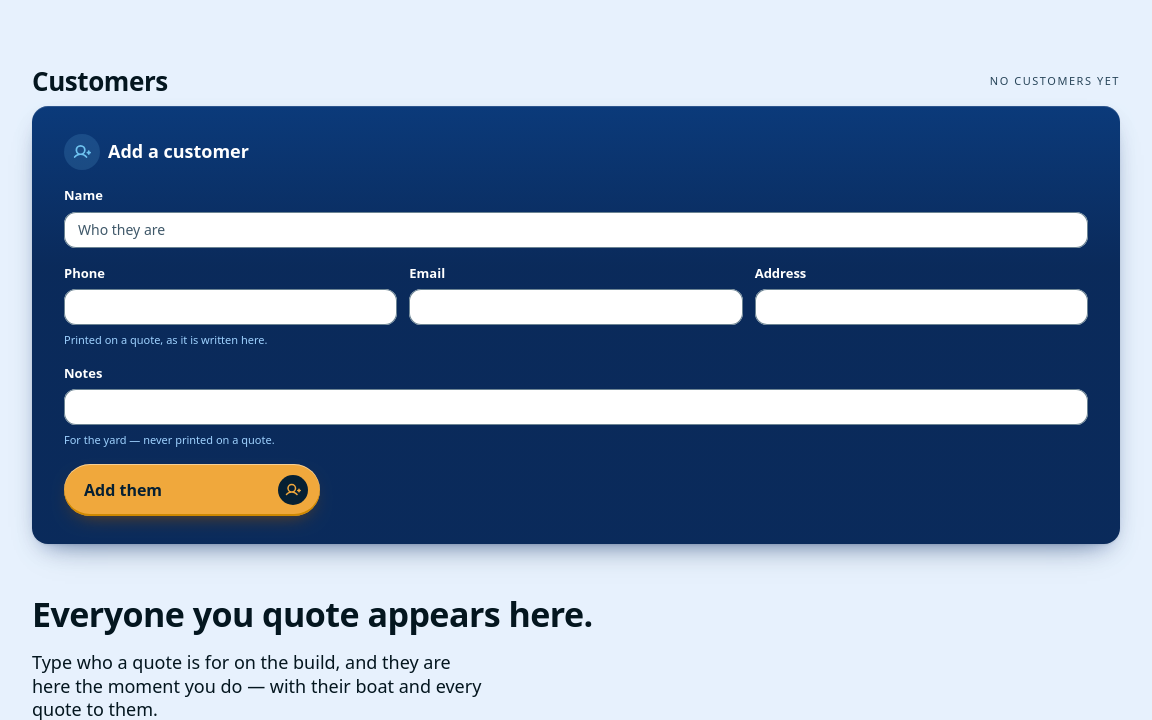
Scenario: adding somebody by hand makes the book, in one step, with one undo › writes the book and the person together and says so plainly
Type "Sarah Jones" into the field labelled "Name".
click(576, 230); type("Sarah Jones")  # box [64,212,1088,248]
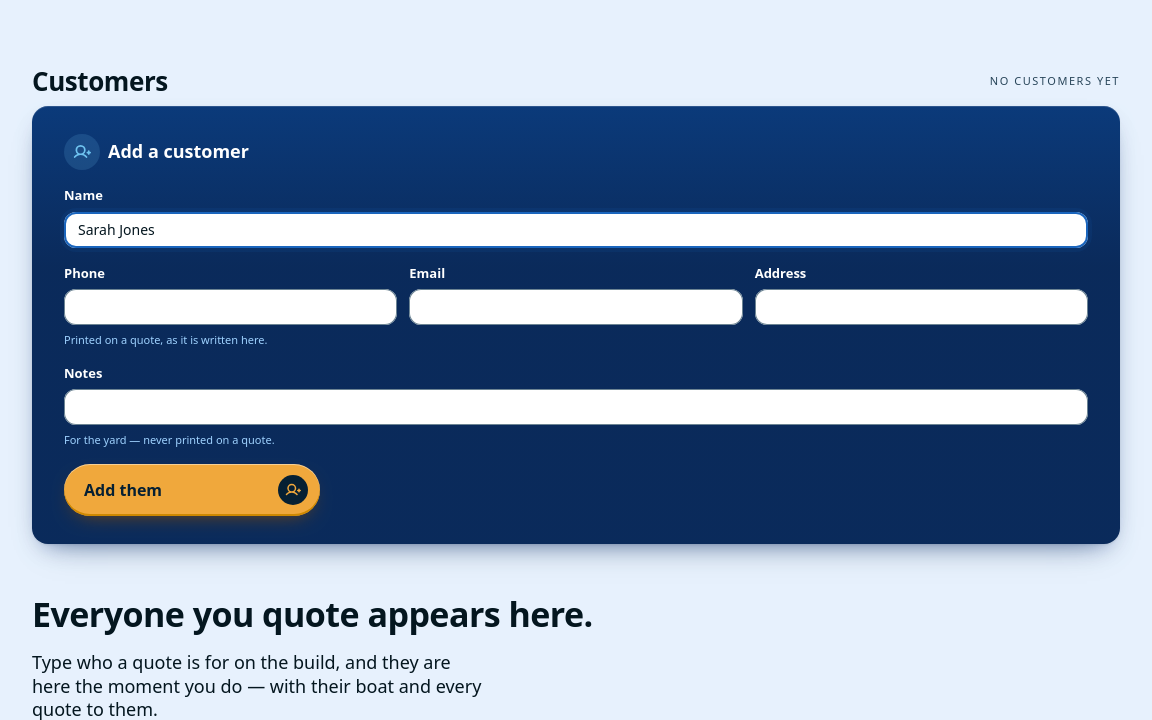
Type "0400 123 456" into the field labelled "Phone".
click(231, 307); type("0400 123 456")  # box [64,289,397,325]
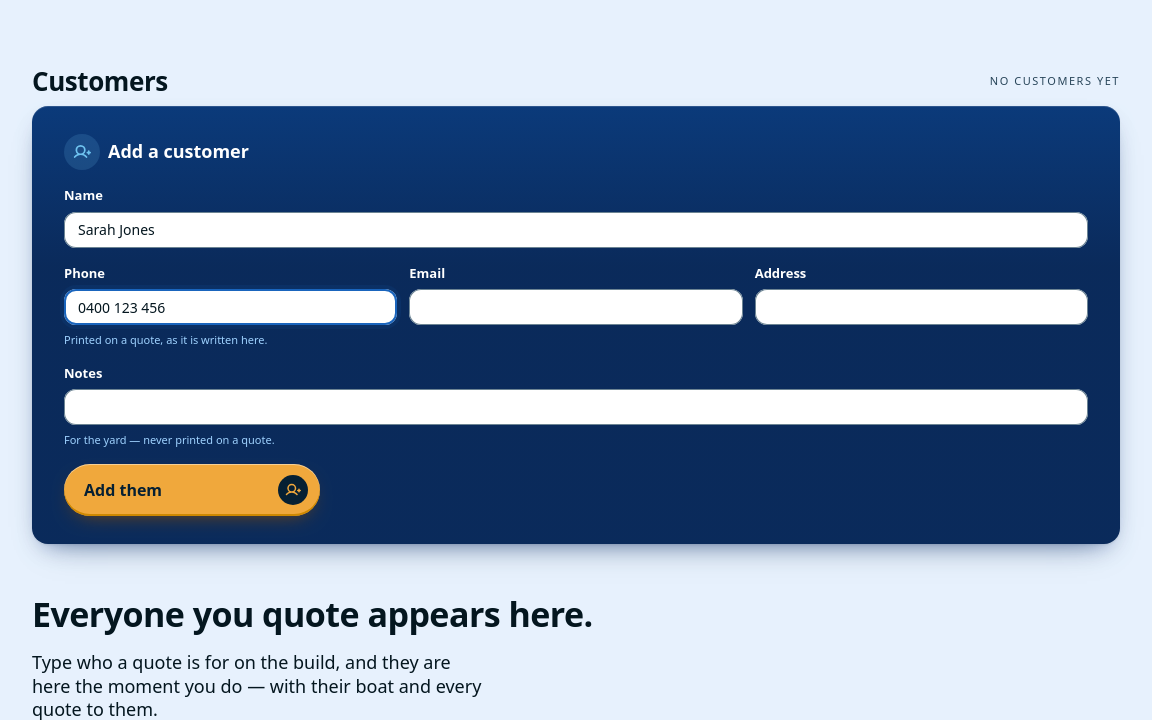
Click the button "Add them".
click(192, 490)  # box [64,464,320,516]
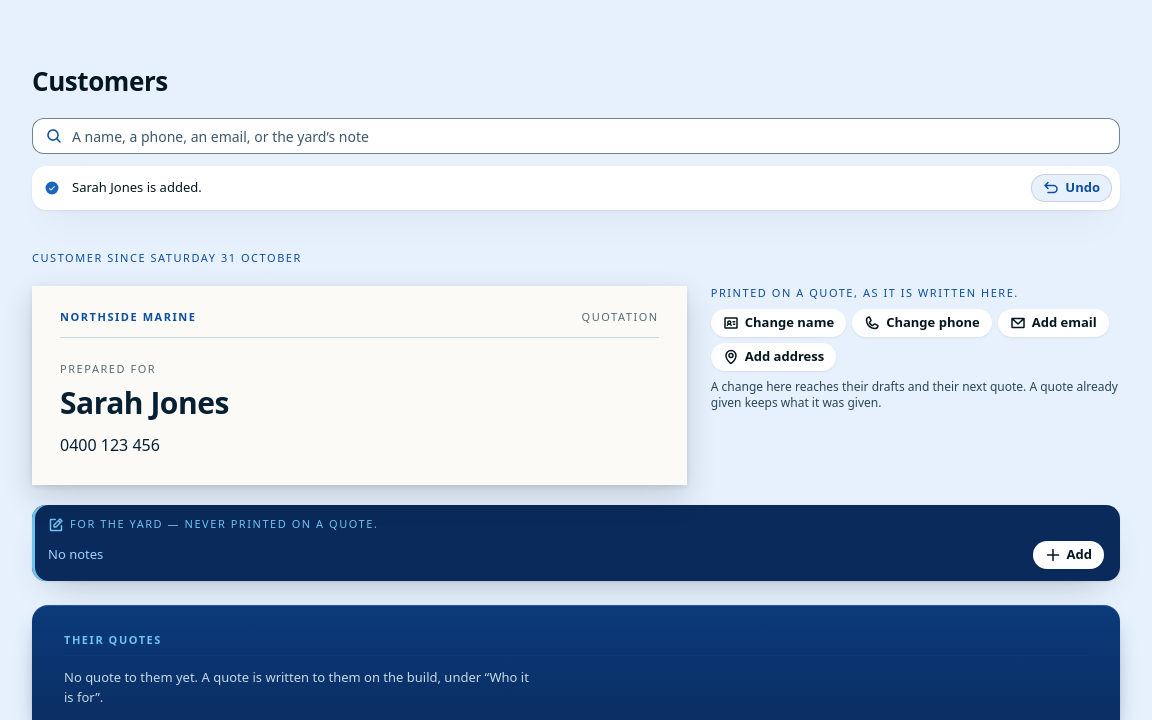
Expected: the heading "Customers" is shown, [32,68,168,94]
Expected: the element with test id "last-step" shows "Sarah Jones is added.", [72,178,202,196]
Expected: the button "Undo" is shown, [1031,174,1112,202]
